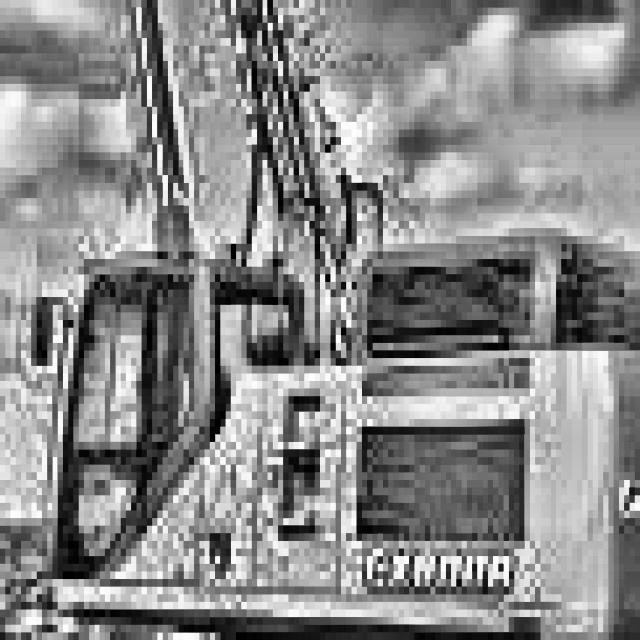excavator: (0, 198, 640, 640)
